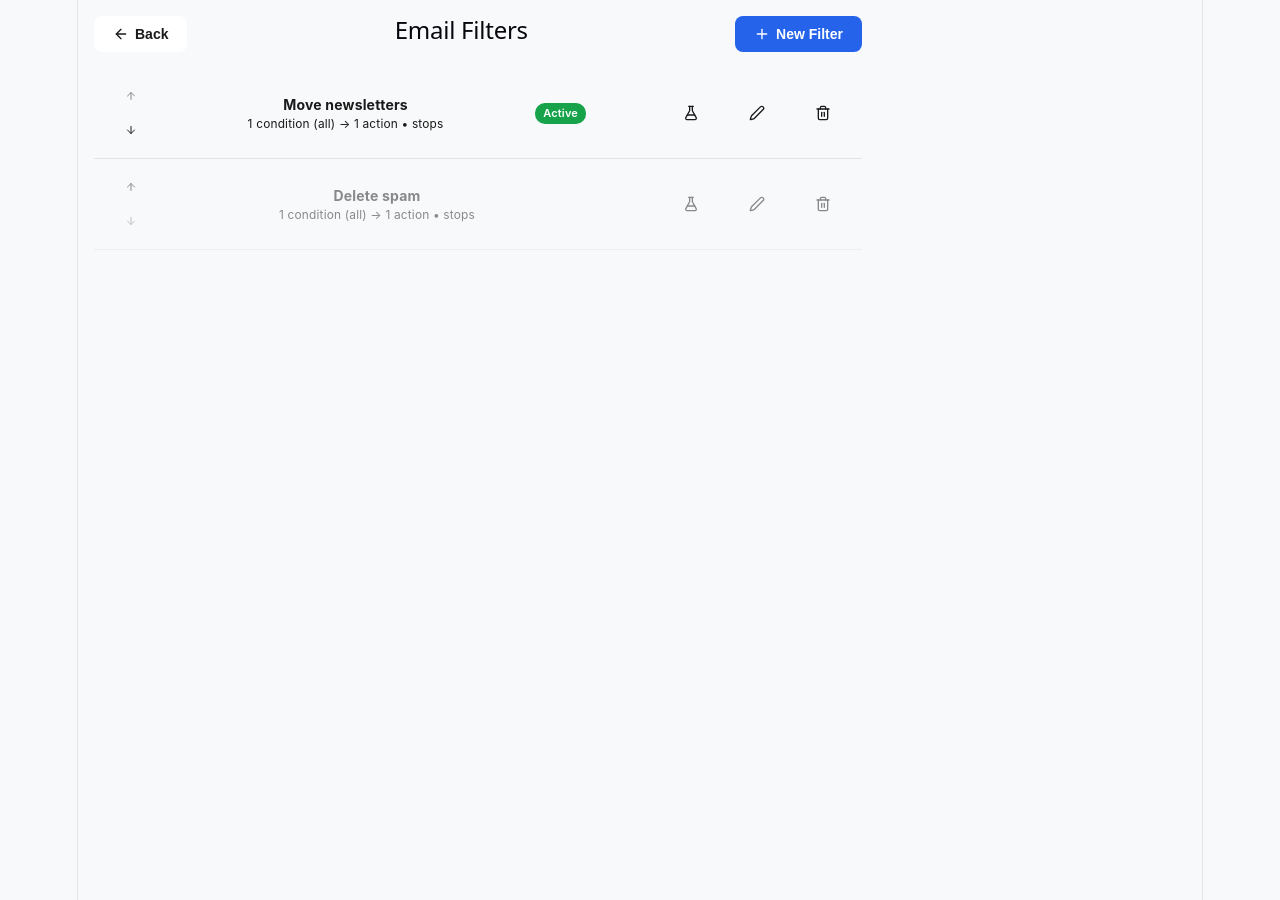
Test: FilterManager › opens edit form when clicking edit button
The image size is (1280, 900).
Expected: the text "Move newsletters" is shown, [283,96,408,113]
Step 1. Click the button titled "Edit" next to "Active" → (757, 113), box [730,95,784,131]
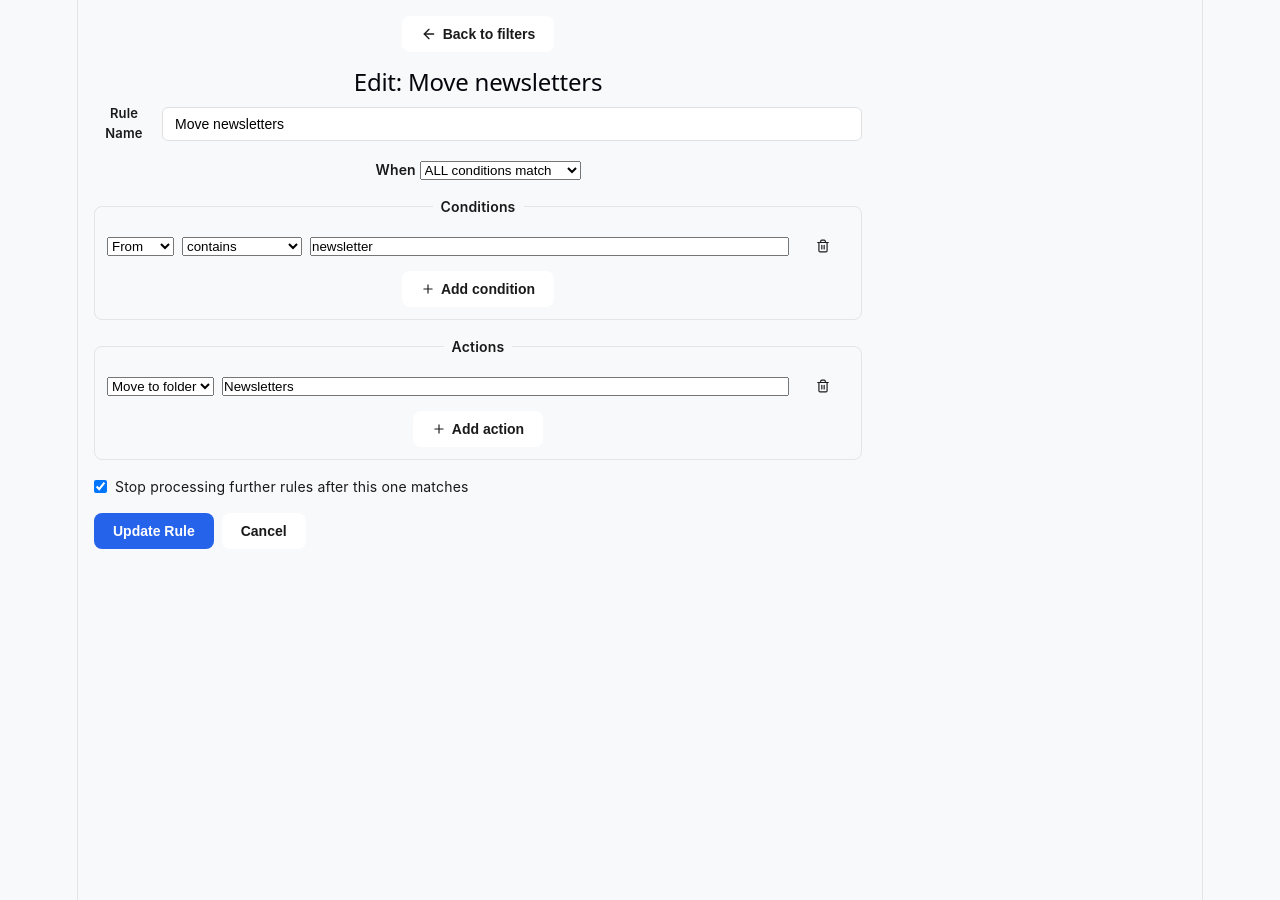
Now the field showing "Move newsletters" next to "Rule Name" is shown, box [162,107,862,141]
